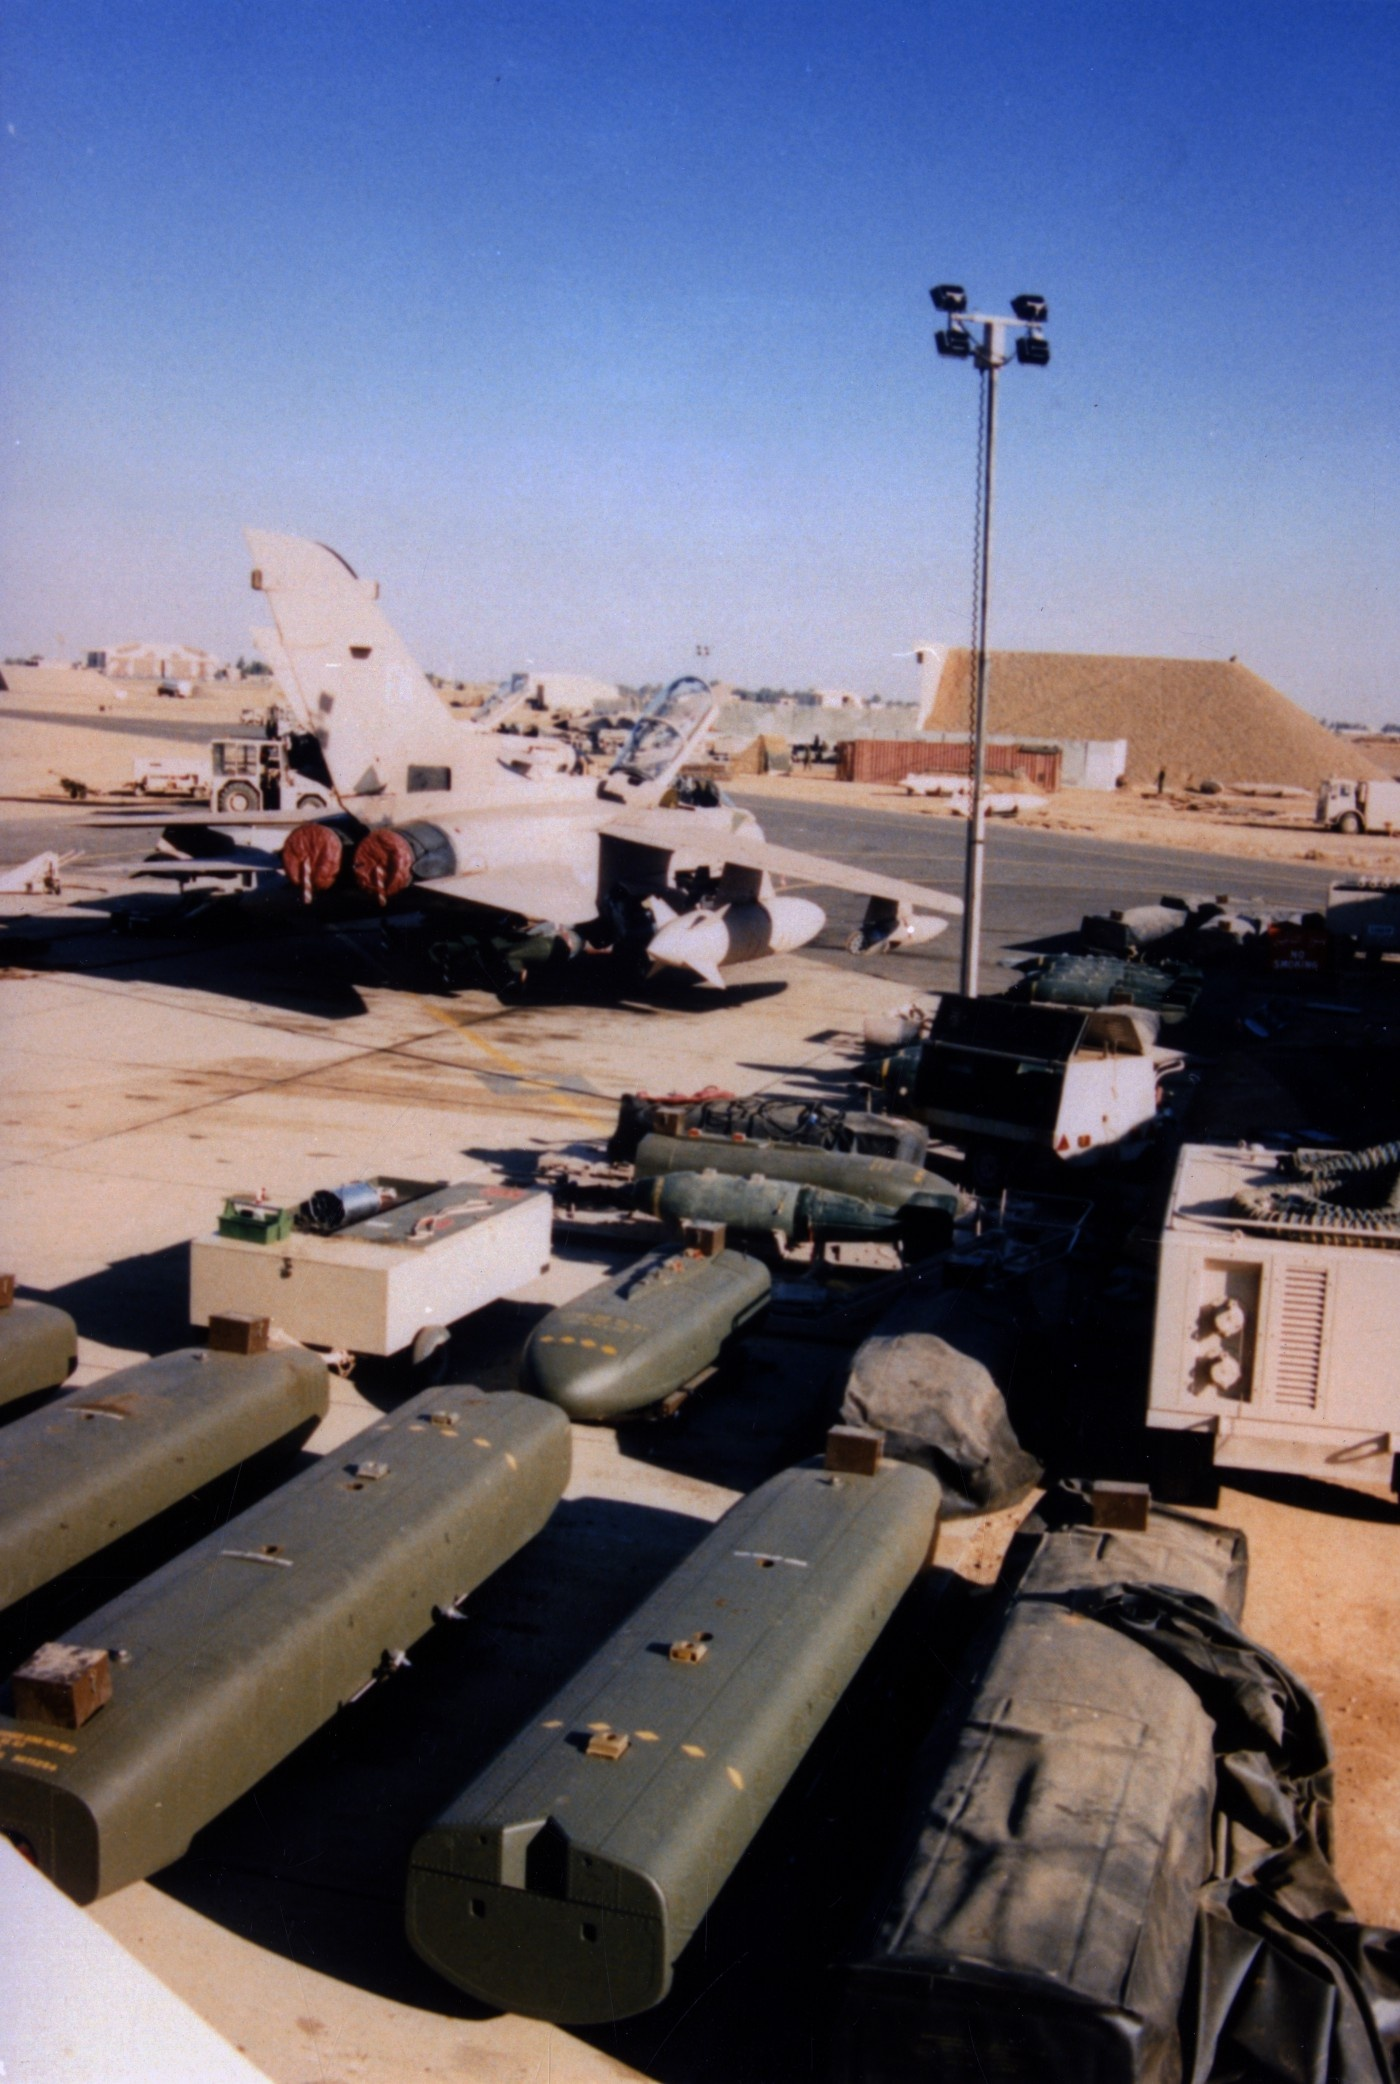Tornado: (56, 522, 964, 1005), (247, 623, 595, 776), (550, 681, 736, 750)
